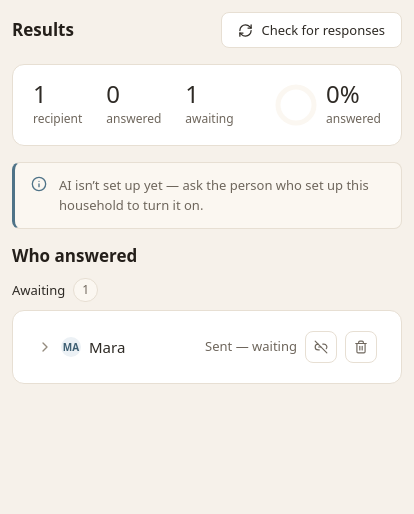
Scenario: QuestionnaireResults › surfaces a relay link’s expiry on an open send (38 §3.6)
This screenshot has width=414, height=514.
Click the button with aria-label "Expand " at {"x": 117, "y": 347}, box [37,337,197,357]
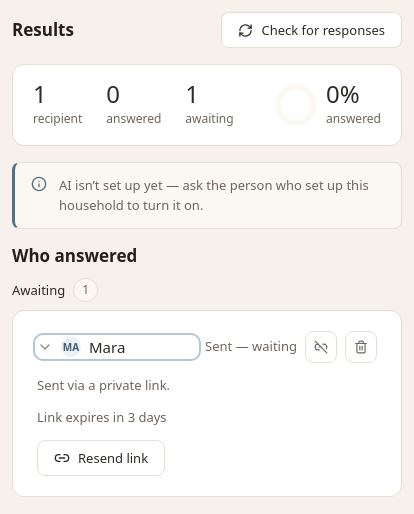
Expected: the text "Link expires in 3 days" is shown, [37,408,167,426]
